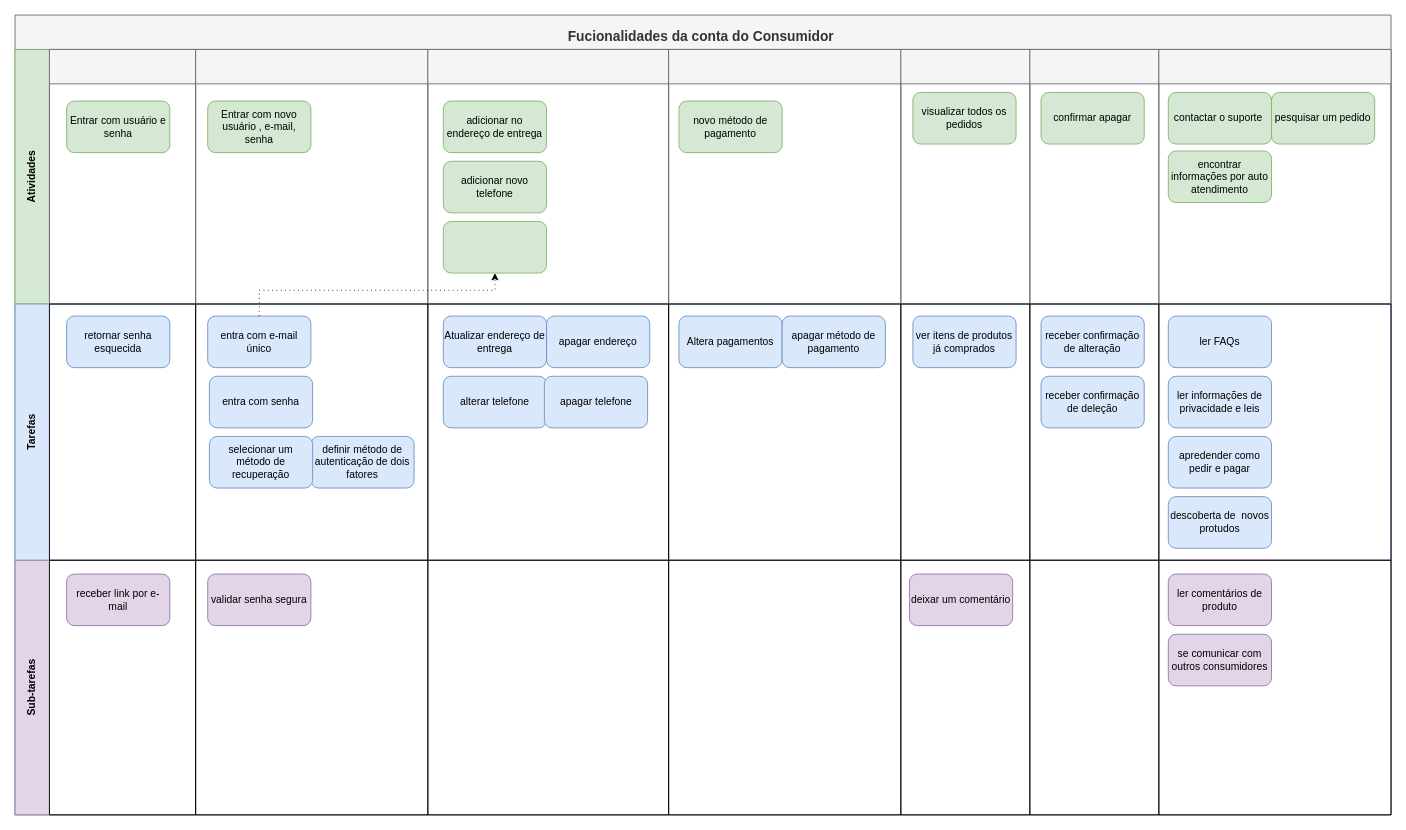
The diagram is 1406 pixels wide and 830 high, and some of its shapes have lost their labels. The box of each missing label's shape, as (x1, y1, x2, y2) in pixels:
Ajuda: (1158, 49, 1391, 304)
alterar detalhes da conta: (427, 49, 669, 304)
alterar detalhes de forma de pagamento: (668, 49, 901, 304)
alterar e-mail: (442, 221, 547, 273)
Criar nova conta: (195, 49, 428, 304)
Delete account: (1029, 49, 1159, 304)
Log in: (49, 49, 196, 304)
revisão de ordens encerradas: (900, 49, 1030, 304)
